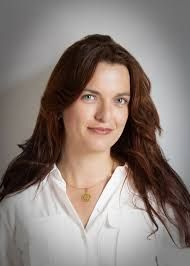no-mask: (49, 43, 141, 154)
